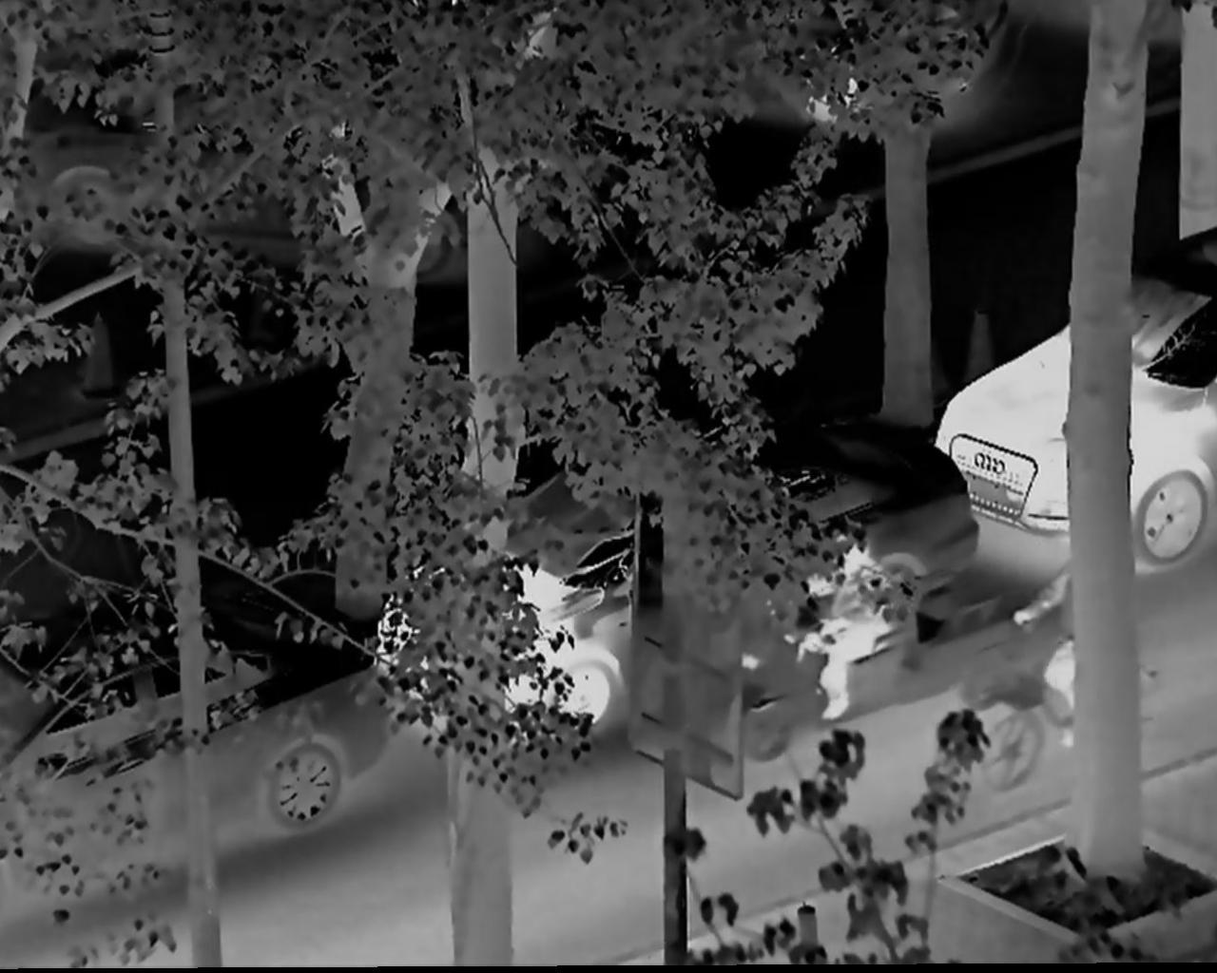person: (799, 524, 892, 726)
